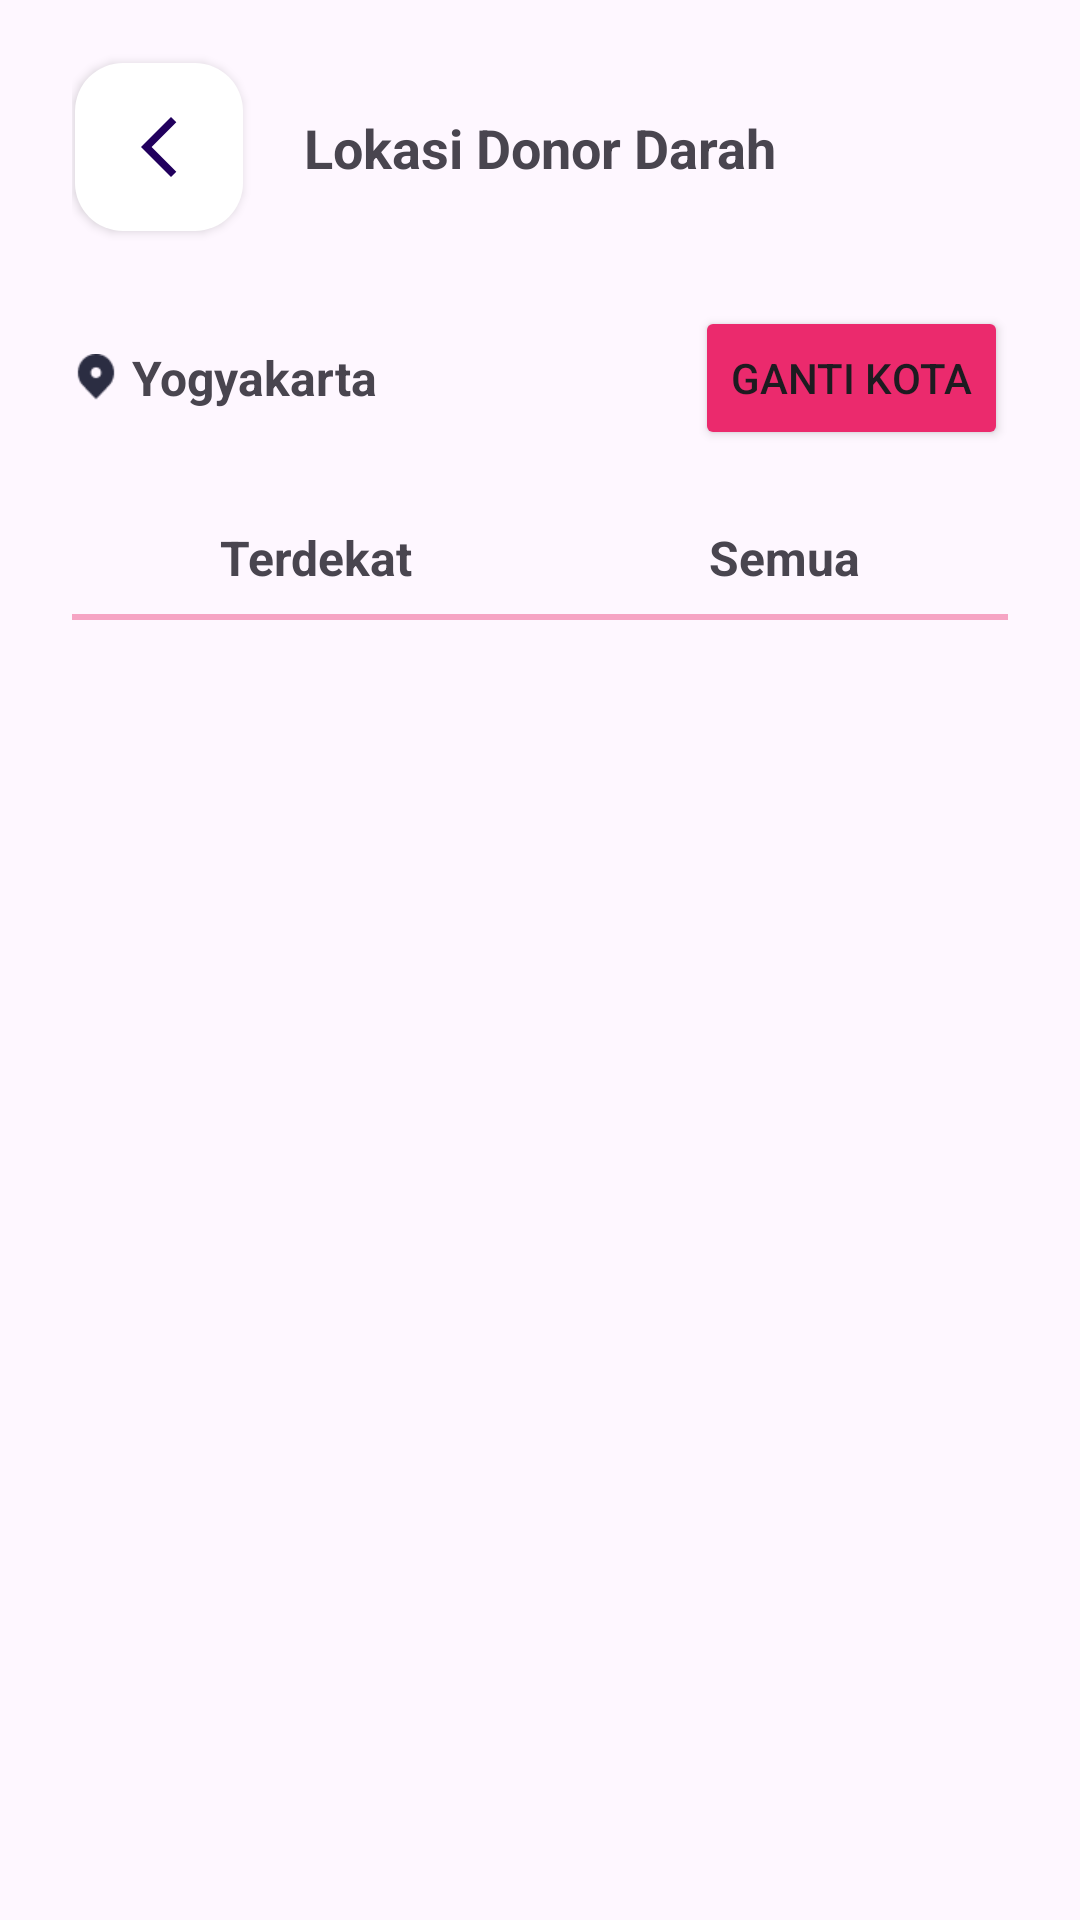

Where to tap for icons on this 1080px x 1920px app screen, as (x=x, y=y):
back: (x=148, y=147)
location: (x=96, y=376)
